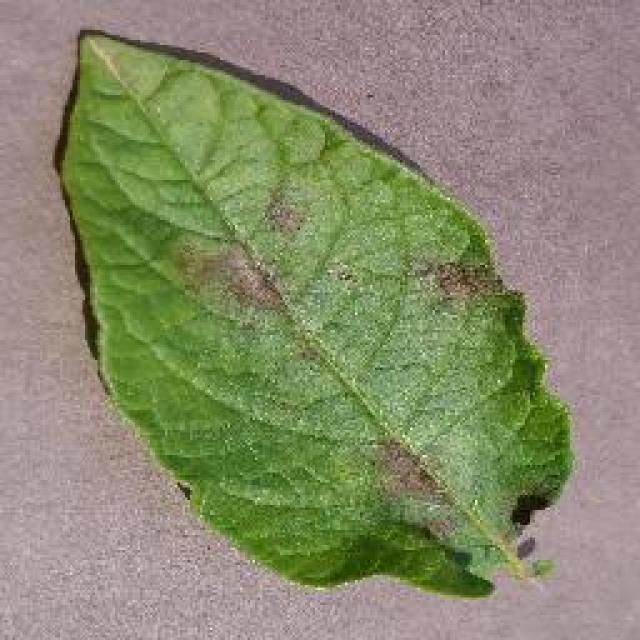late_blight: (50, 25, 578, 603)
